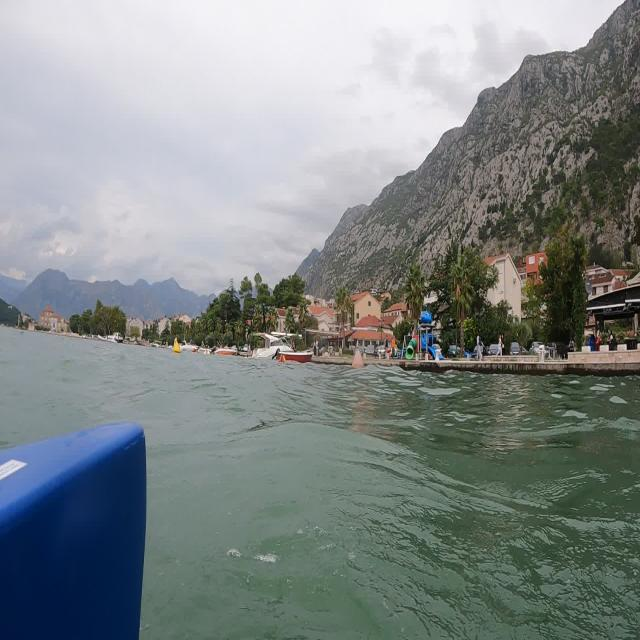boat: (242, 325, 317, 374)
buoy: (350, 346, 368, 380), (174, 333, 182, 360)
